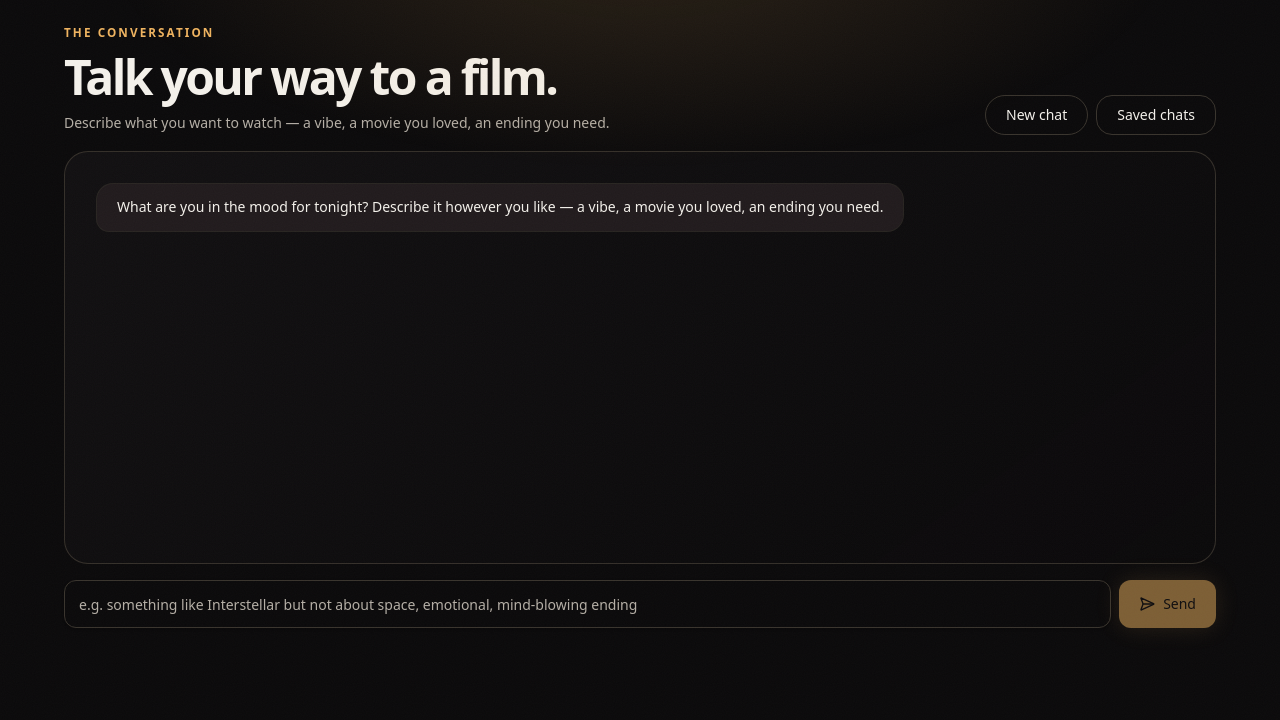
Test: AI chat › clears an interrupted history refresh when starting a new chat
Expected: the field named "Chat message" is enabled, [64,580,1111,628]
Click the button "Saved chats" at (1156, 115), box [1096,95,1216,135]
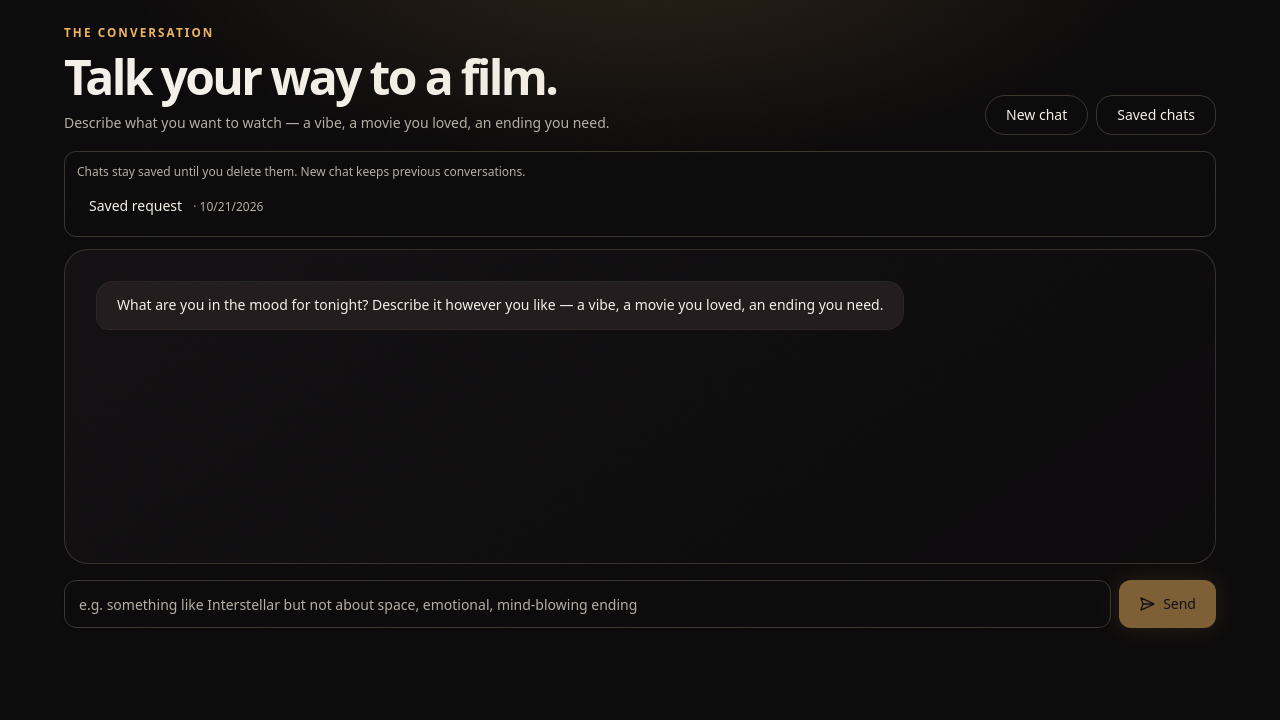
Click the button "Saved request · 10/21/2026" at (136, 205), box [77,188,1203,224]
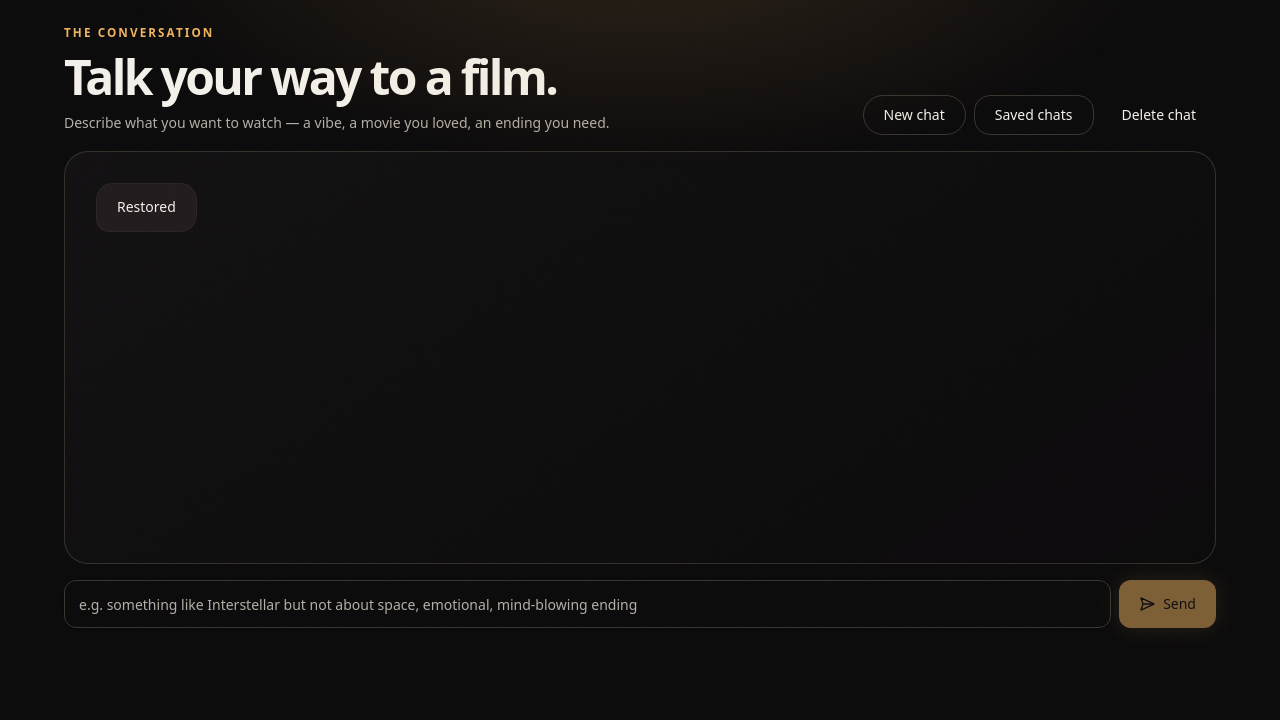
Result: the text "Restored" is shown at [97,184,196,231]
Click the button "Saved chats" at (1034, 115), box [974,95,1094,135]
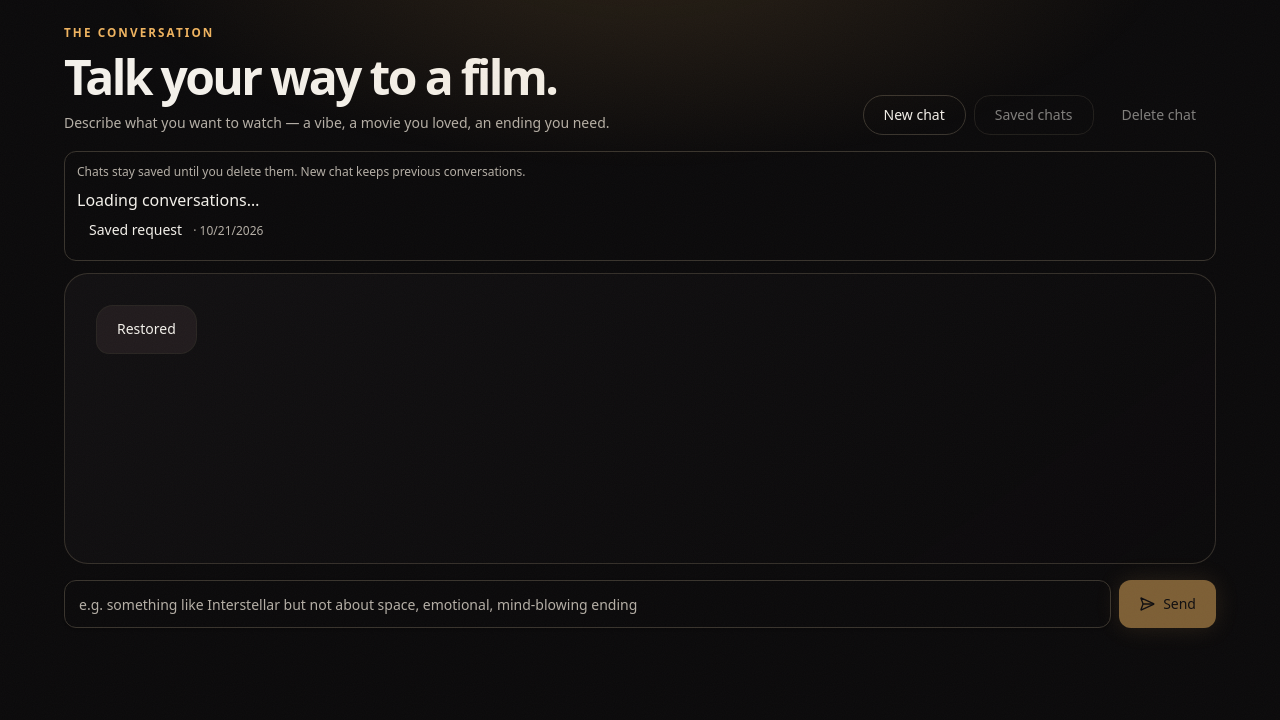
Result: the button "Saved request · 10/21/2026" is disabled at [77,212,1203,248]
Click the button "New chat" at (914, 115), box [862,95,966,135]
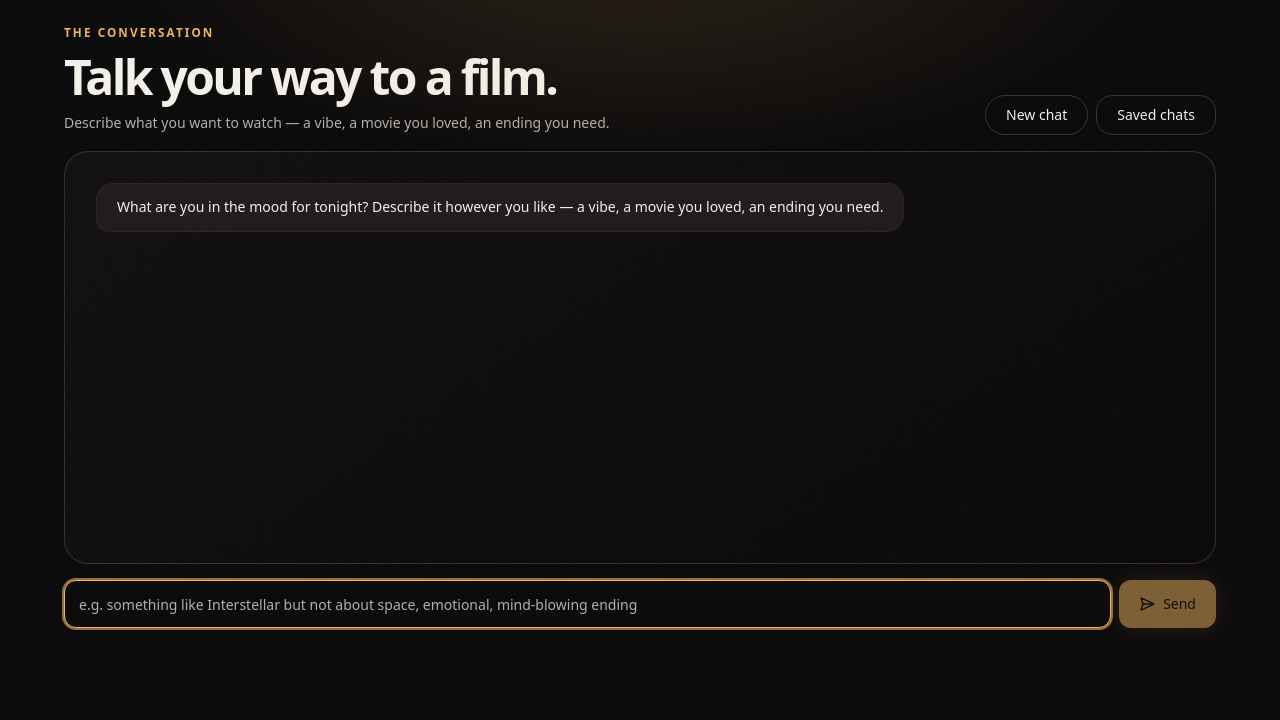
Result: the button "Saved chats" is enabled
Click the button "Saved chats" at (1156, 115), box [1096,95,1216,135]
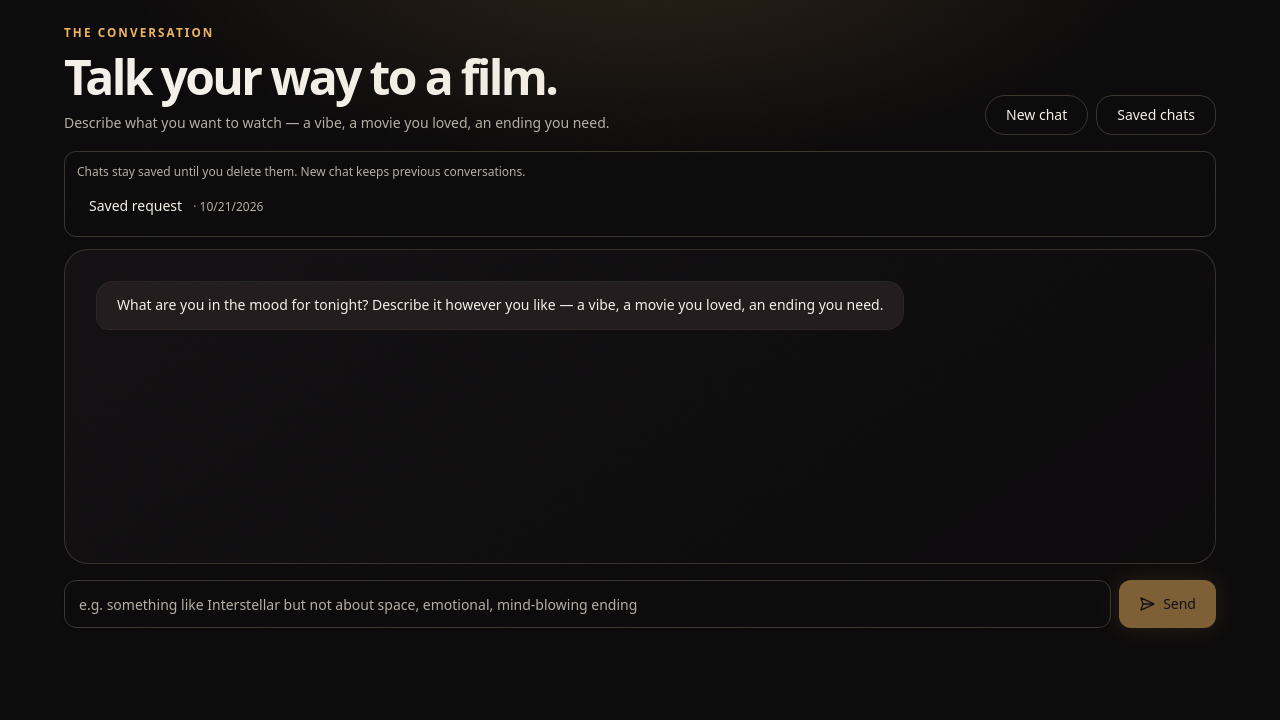
Click the button "Saved request · 10/21/2026" at (136, 205), box [77,188,1203,224]
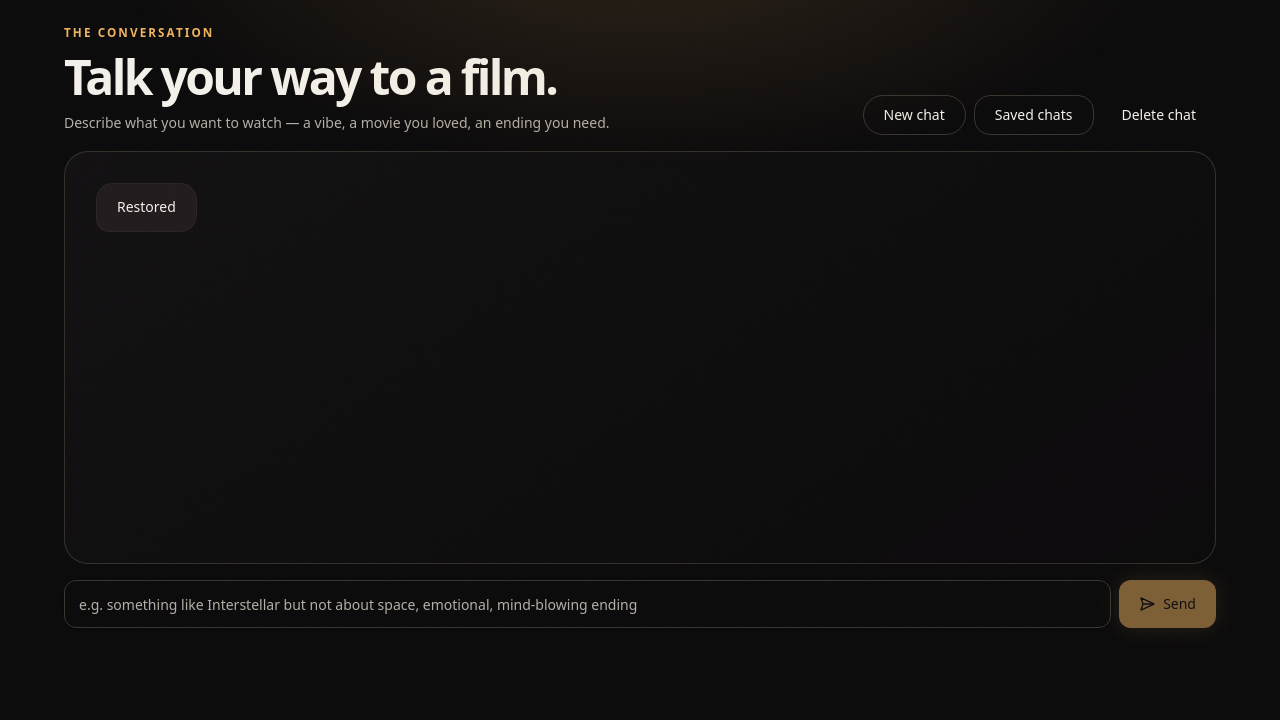
Result: the button "Delete chat" is enabled at [1102,95,1216,135]
